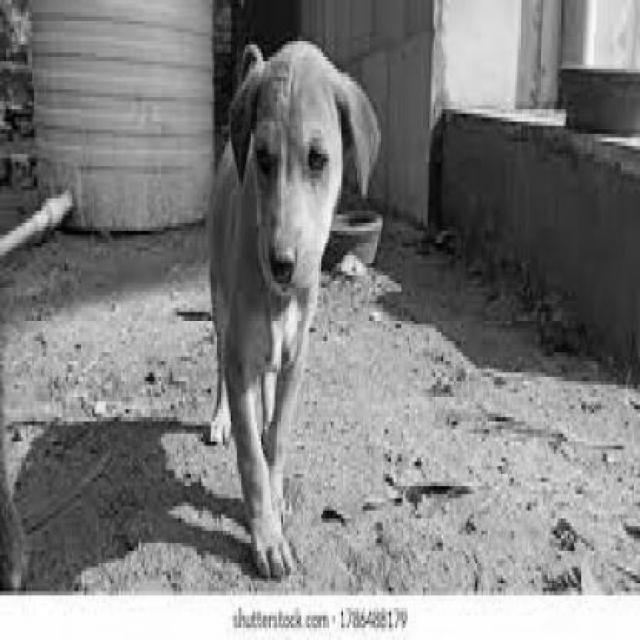Dog: (196, 0, 379, 568)
